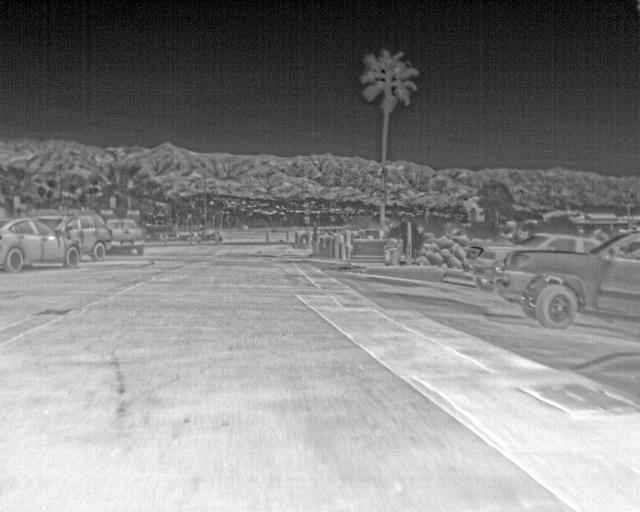bicycle: (493, 230, 638, 332), (464, 232, 602, 296), (0, 214, 80, 272), (35, 213, 113, 262), (106, 219, 145, 258)
